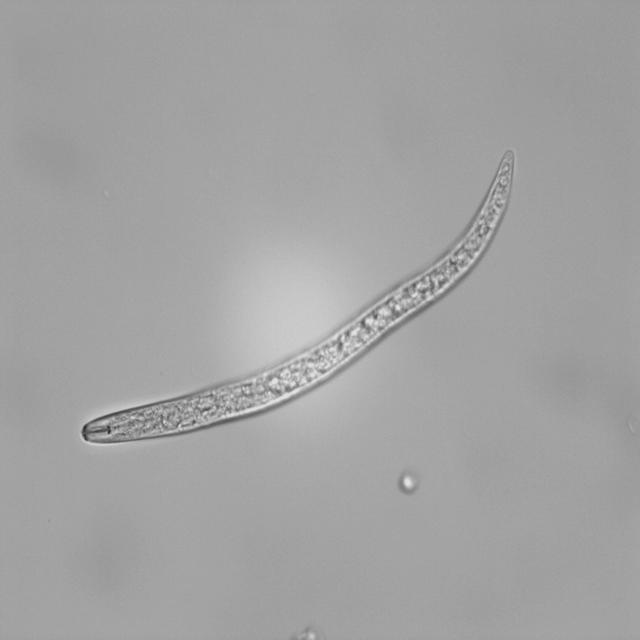Pratylenchus: (77, 142, 524, 450)
